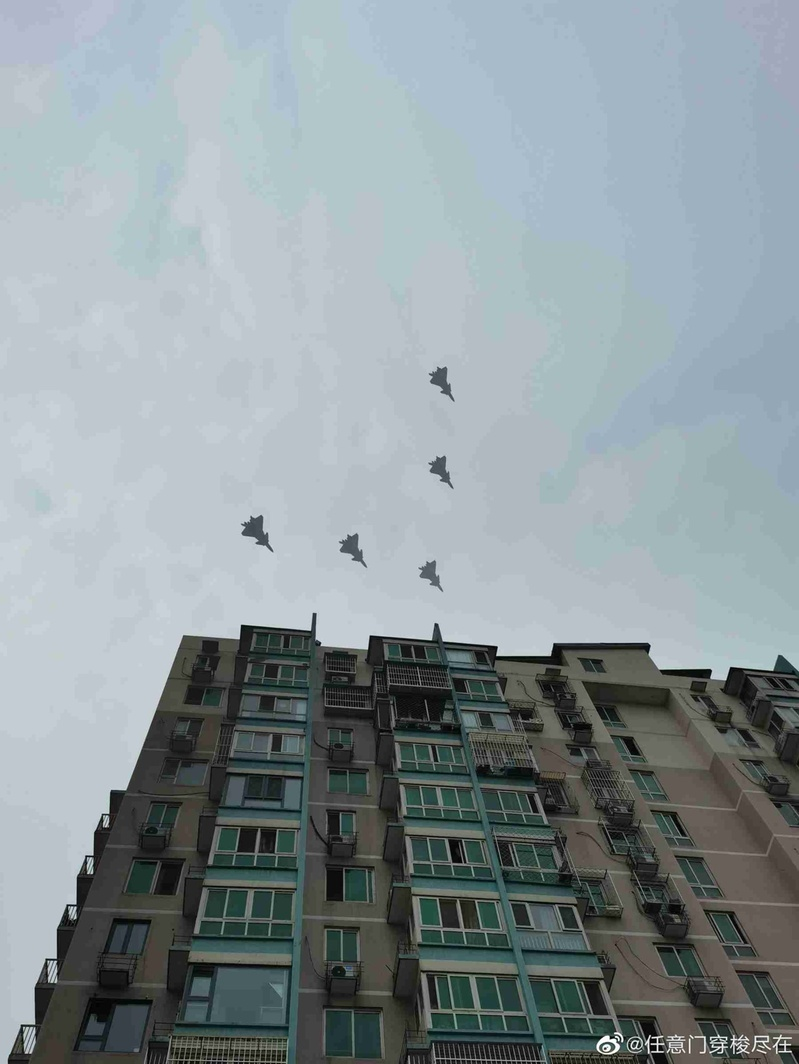J20: (240, 514, 275, 554), (338, 532, 368, 569), (428, 366, 456, 403), (427, 454, 455, 490), (417, 559, 444, 593)
